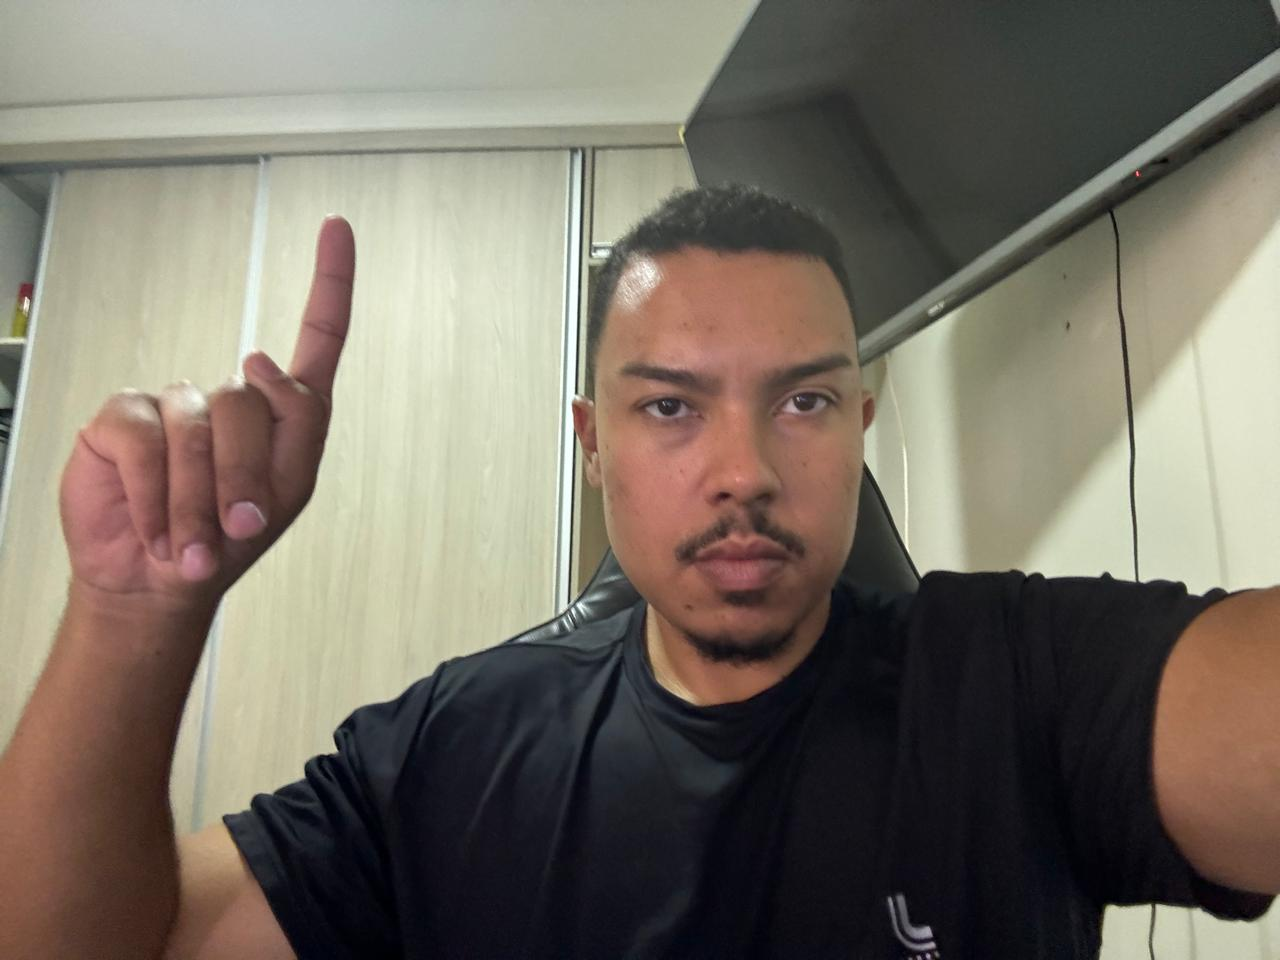z: (42, 198, 369, 627)
